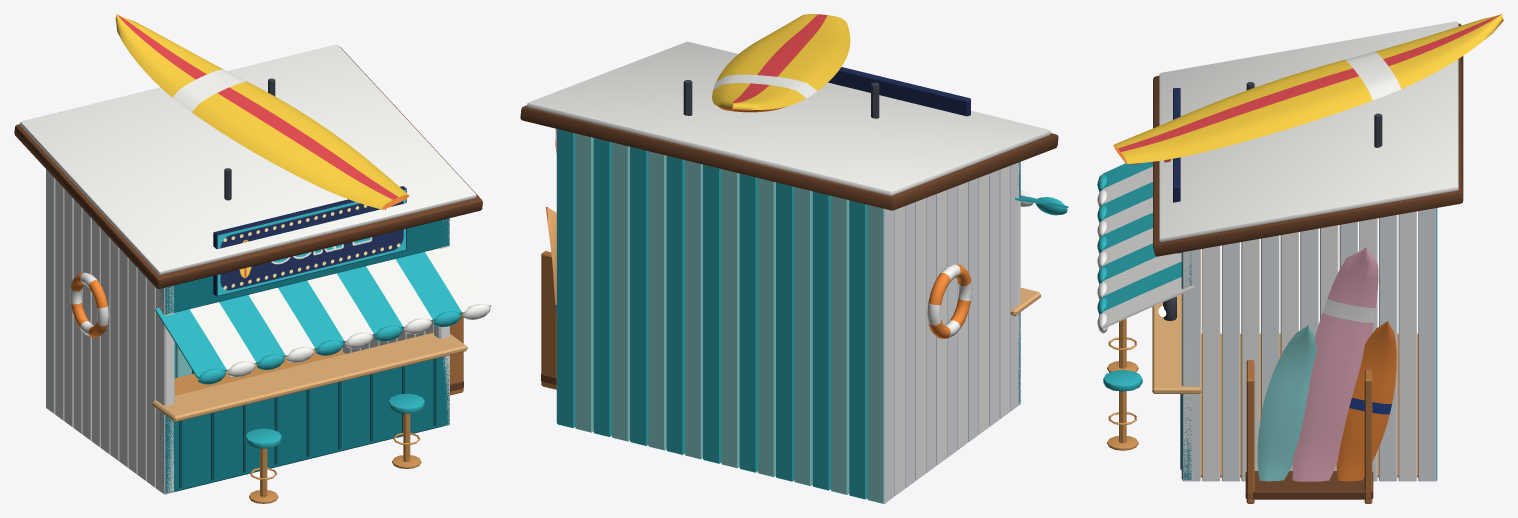
File: quiosque_estacao_surfe.glb
3 views of the same model, side by side, from view 1: azimuth 30°, elevation 25°; view 2: azimuth 150°, elevation 25°; view 3: azimuth 270°, elevation 25° (orthographic). The views are drawn at different scales.
Visible parts, largest first — view 1: quiosque_estacao_surfe; view 2: quiosque_estacao_surfe; view 3: quiosque_estacao_surfe.
Part boxes in pixels (x1,y1,x2,y2): quiosque_estacao_surfe: (14,14,491,503); quiosque_estacao_surfe: (520,14,1068,503); quiosque_estacao_surfe: (1097,14,1503,503).
Size of the model in its own units: 4.4 by 4.17 by 4.14.
Materials: 3 (2 with a texture image).
